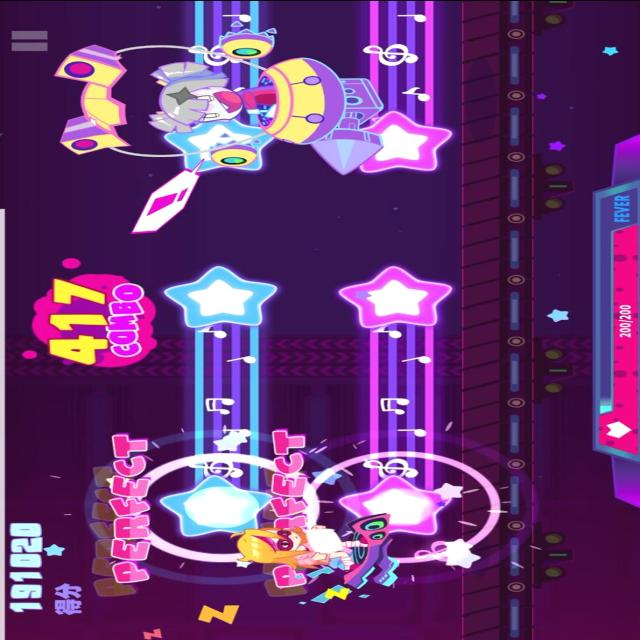hold: (330, 261, 453, 547), (156, 262, 278, 536), (156, 0, 283, 176), (339, 0, 459, 173)
qiangboss: (44, 21, 352, 166)
